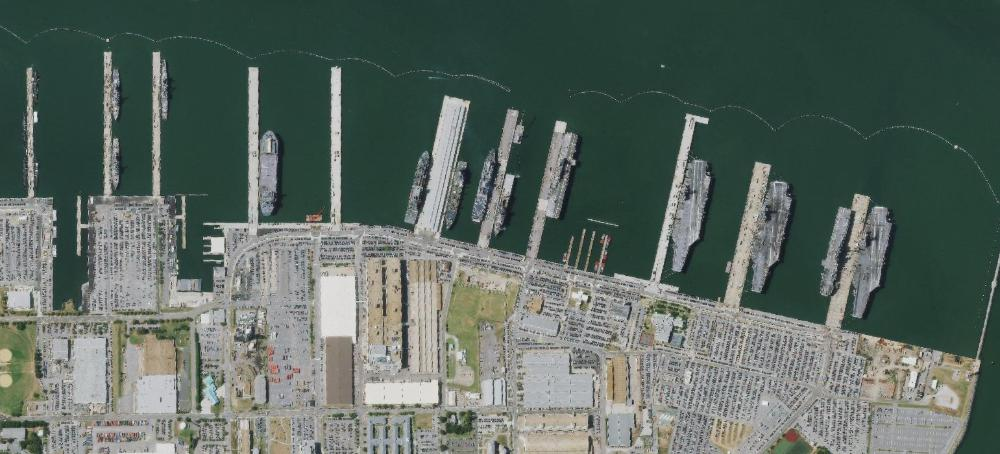amphiby: (472, 146, 495, 227)
cruiser: (159, 59, 170, 123)
destroyer: (111, 137, 122, 191), (112, 68, 121, 122)
pha: (540, 127, 583, 226), (821, 205, 852, 297)
supply: (255, 129, 285, 221)
tender: (400, 149, 435, 231)
